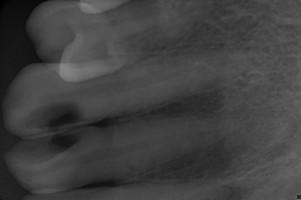Furcation Involvement: (148, 138, 253, 182), (145, 89, 226, 116), (229, 186, 243, 200)
